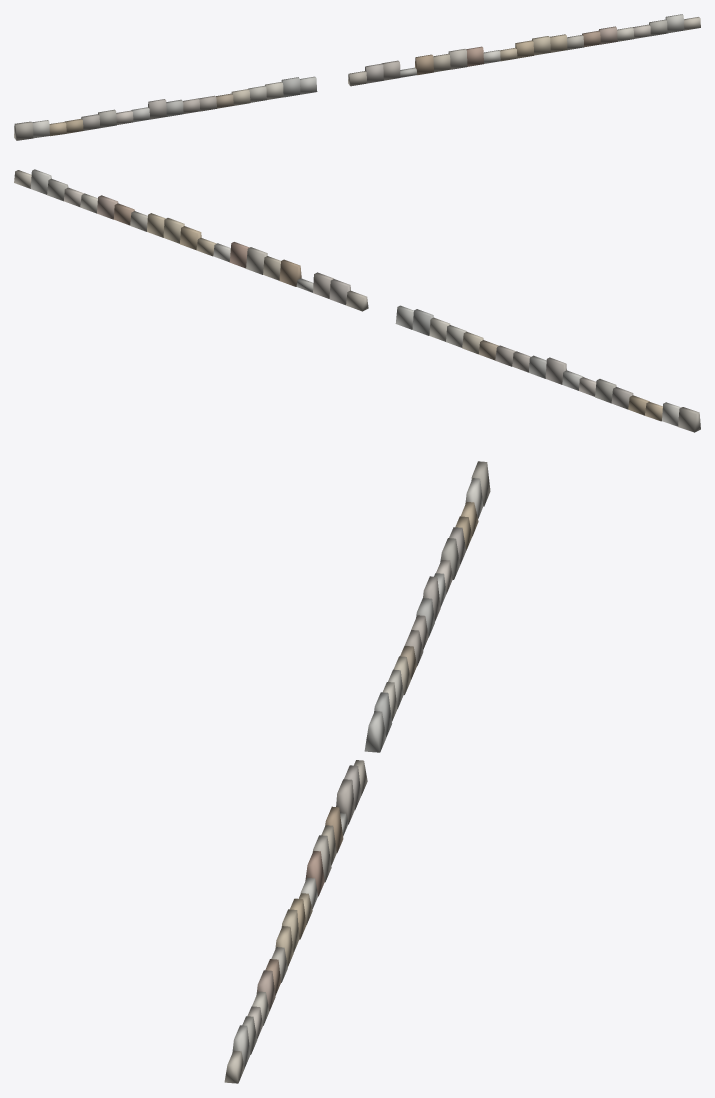
The model's file is farm_24_31_collision.glb.
The picture shows the model from 3 angles, top to bottom: view 1: azimuth 30°, elevation 25°; view 2: azimuth 150°, elevation 25°; view 3: azimuth 270°, elevation 25°; orthographic projection. The views are drawn at different scales.
Visible parts, largest first — view 1: geometry_0; view 2: geometry_0; view 3: geometry_0.
Part boxes in pixels (x1,y1,x2,y2): geometry_0: [14, 14, 700, 140]; geometry_0: [14, 169, 700, 432]; geometry_0: [224, 461, 490, 1083].
Bounding box in the file's own units: 63.66 × 2.14 × 11.78.
